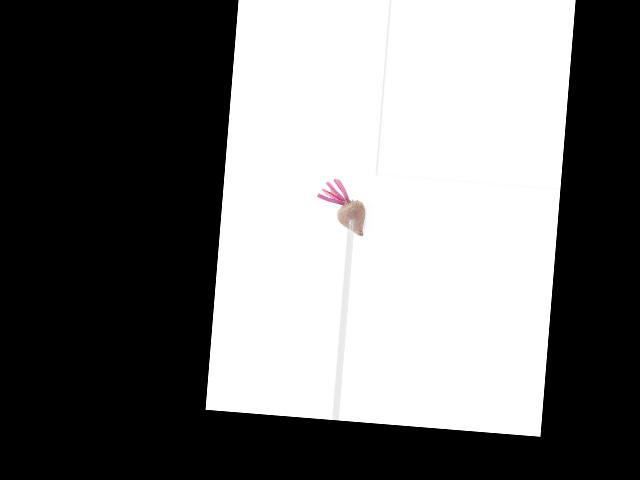beet: (314, 177, 368, 236)
